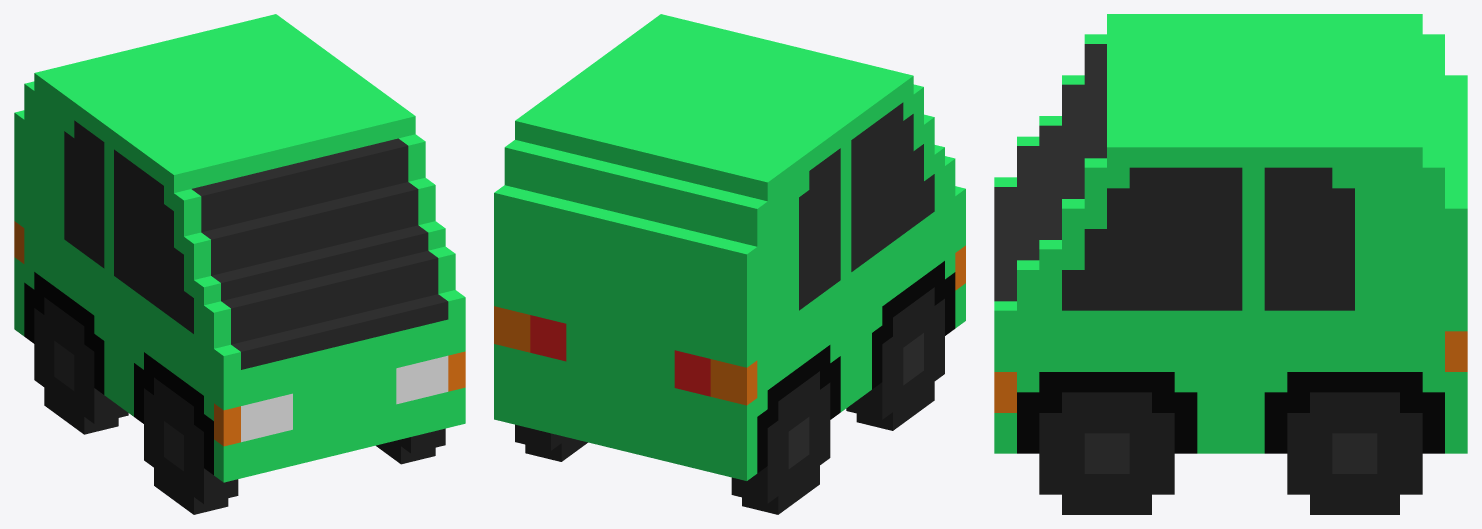
Rendered from kit-voxel-micro-green.glb.
The picture shows the model from 3 angles, left to right: view 1: azimuth 30°, elevation 25°; view 2: azimuth 150°, elevation 25°; view 3: azimuth 270°, elevation 25°; orthographic projection. The views are drawn at different scales.
Parts seen in each view (by area): view 1: geometry_1; view 2: geometry_1; view 3: geometry_1.
Boxes of the visible parts, x1,y1,x2,y2 form: geometry_1: (14,14,465,514); geometry_1: (494,14,965,514); geometry_1: (994,14,1467,514).
Bounding box in the file's own units: 1.4 × 1.8 × 2.1.
Materials: 1 (1 with a texture image).
